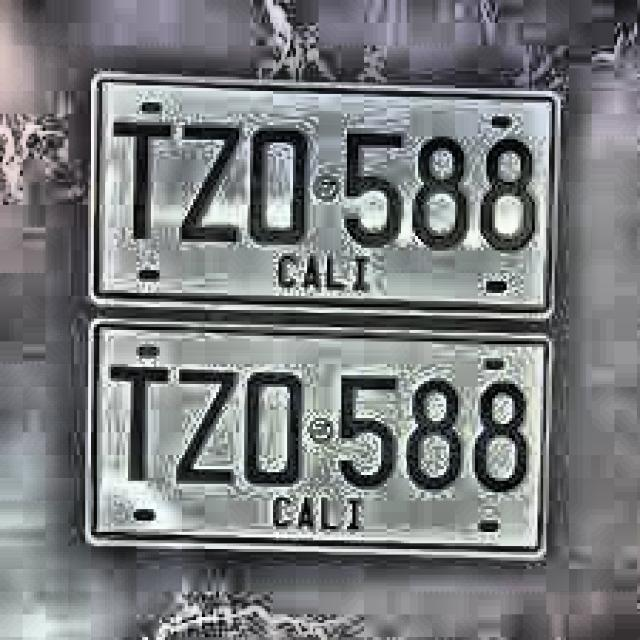plate: (94, 75, 557, 314), (91, 322, 548, 553)
